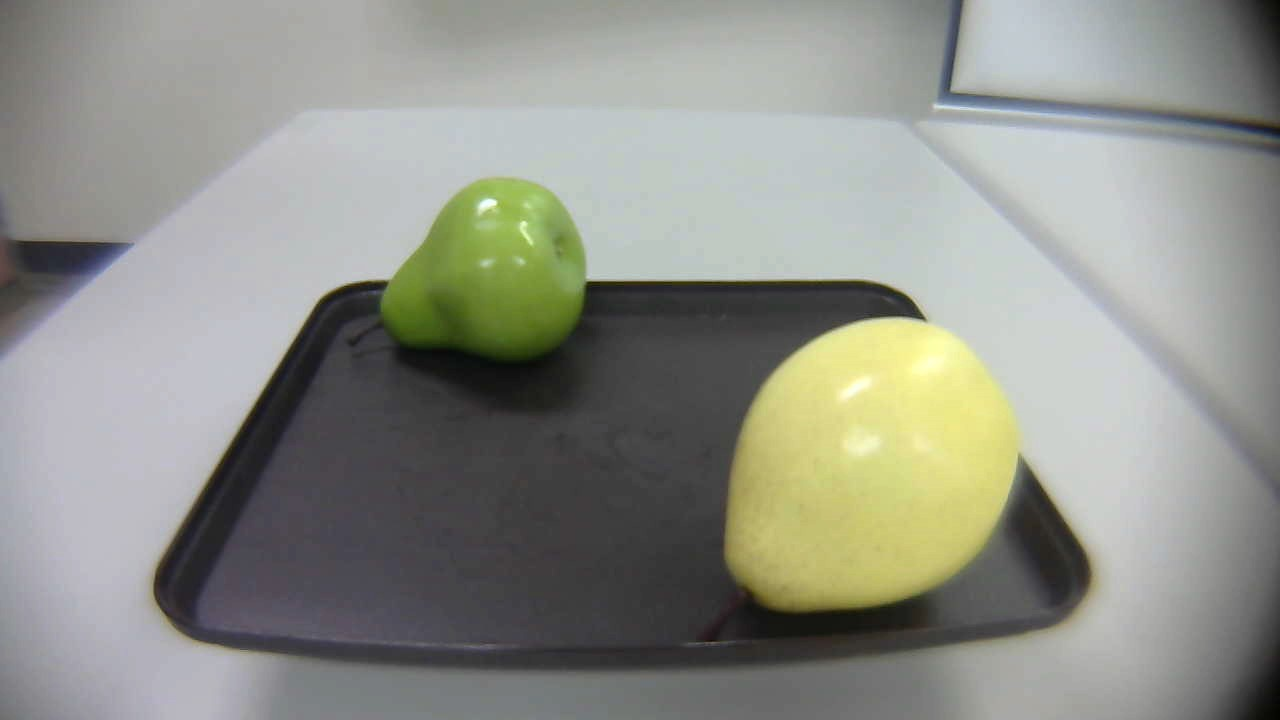green pear: (328, 177, 615, 374)
western pear: (707, 313, 1023, 638)
